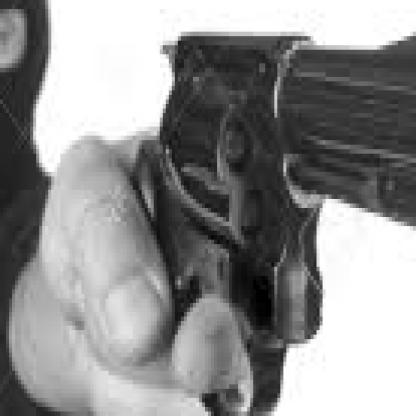gun: (102, 0, 413, 412)
